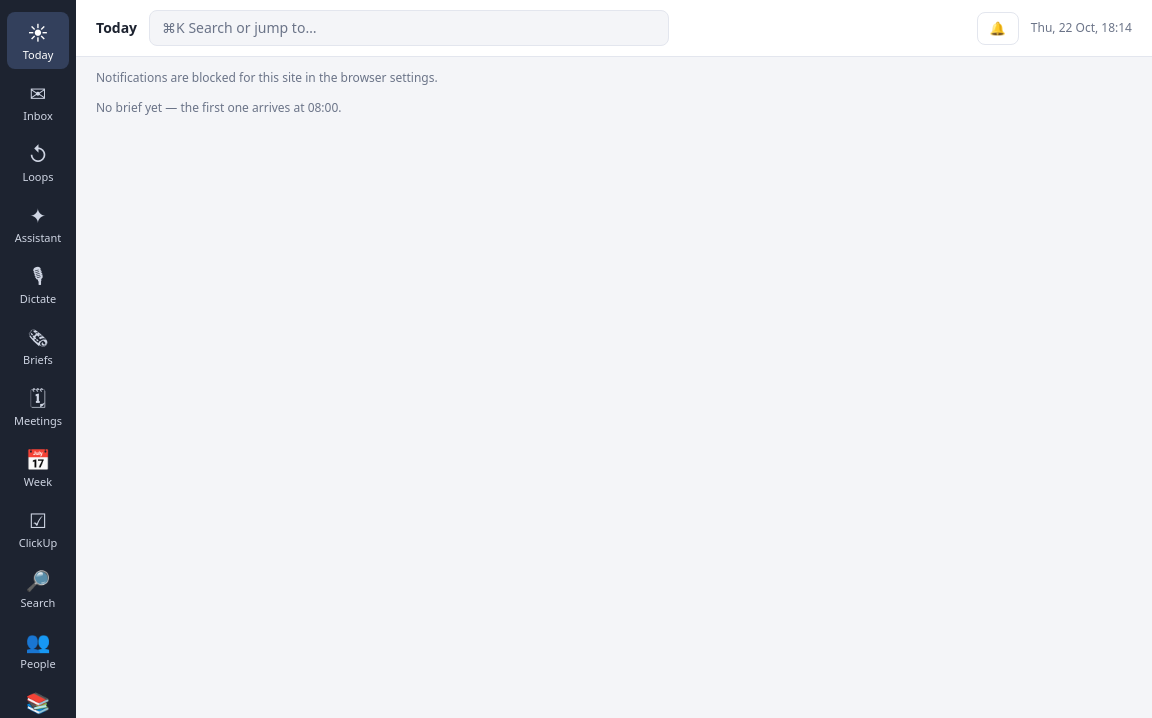
Test: palette offers pages and a full search; Escape closes it
Click the button "⌘K Search or jump to…" at (252, 28), box [149,10,669,46]
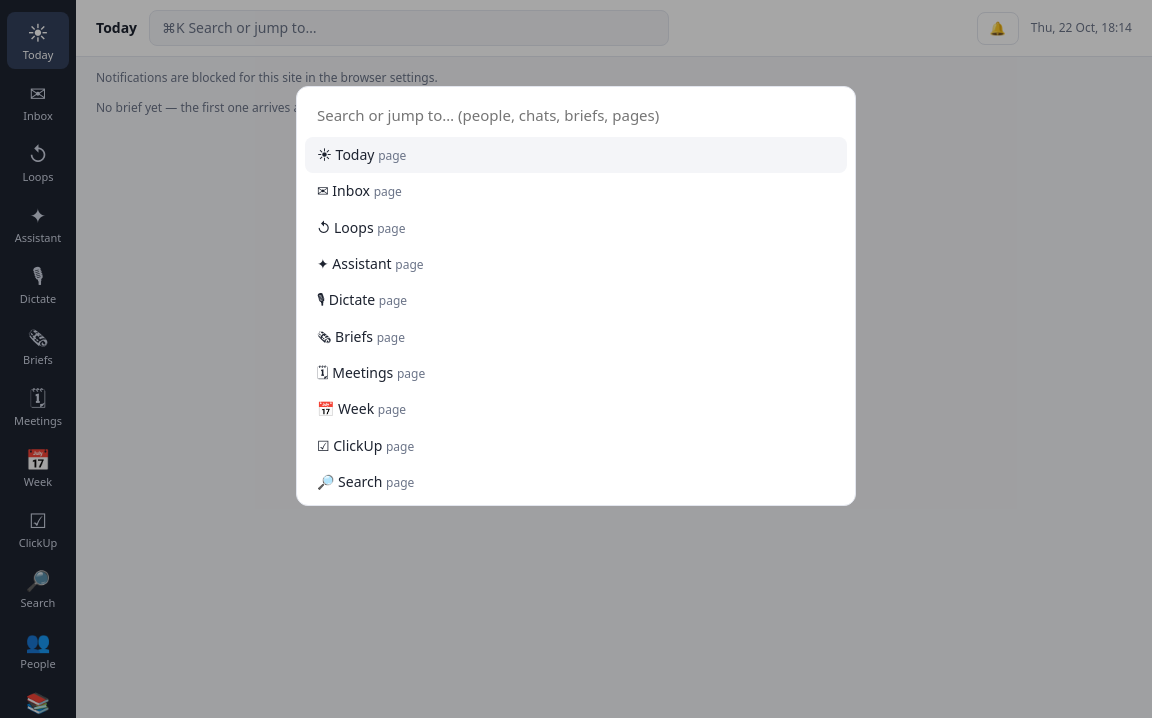
Type "inb" into the field labelled "Search or jump to" at (576, 116), box [305,95,847,137]
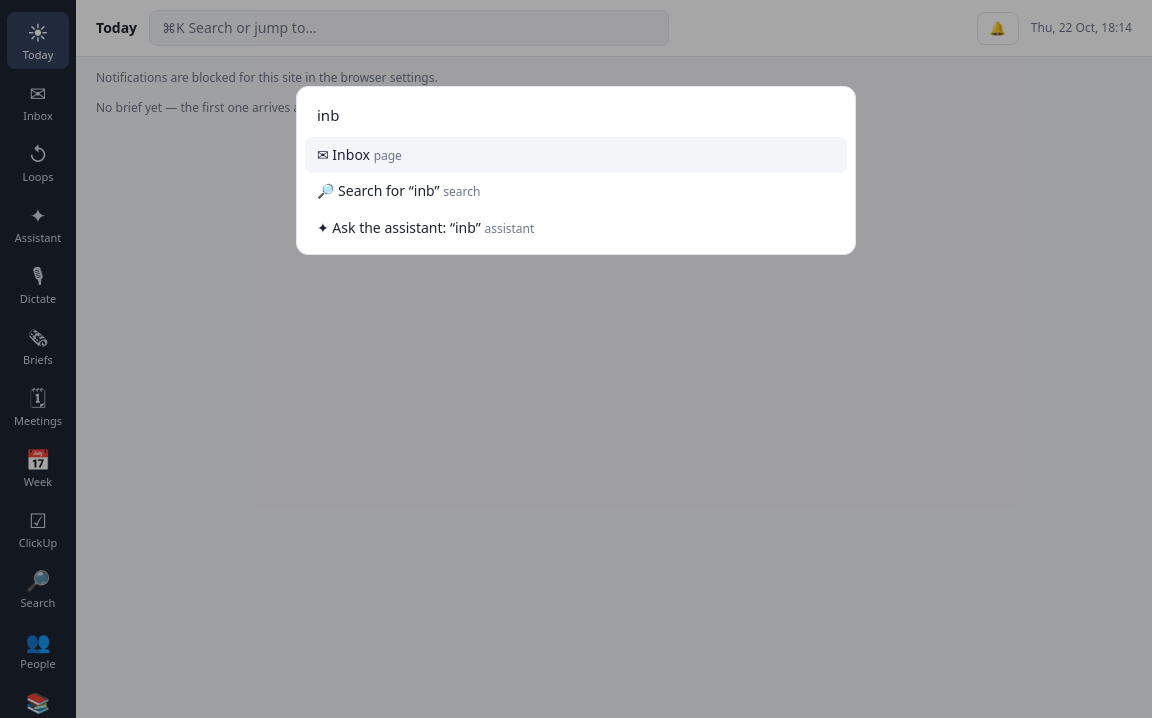
Expected: the option "✉ Inbox page" is shown, [305,137,847,173]
Expected: the option "🔎 Search for “inb” search" is shown, [317,181,480,200]
Press Escape
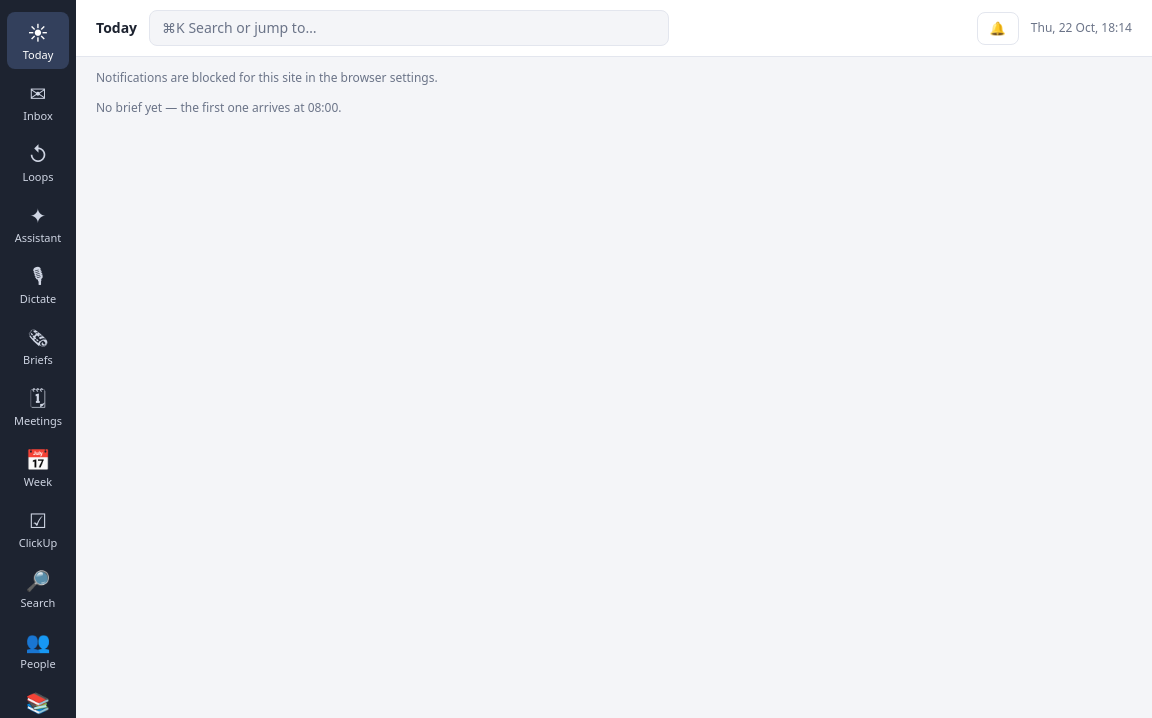
Expected: the dialog is gone
